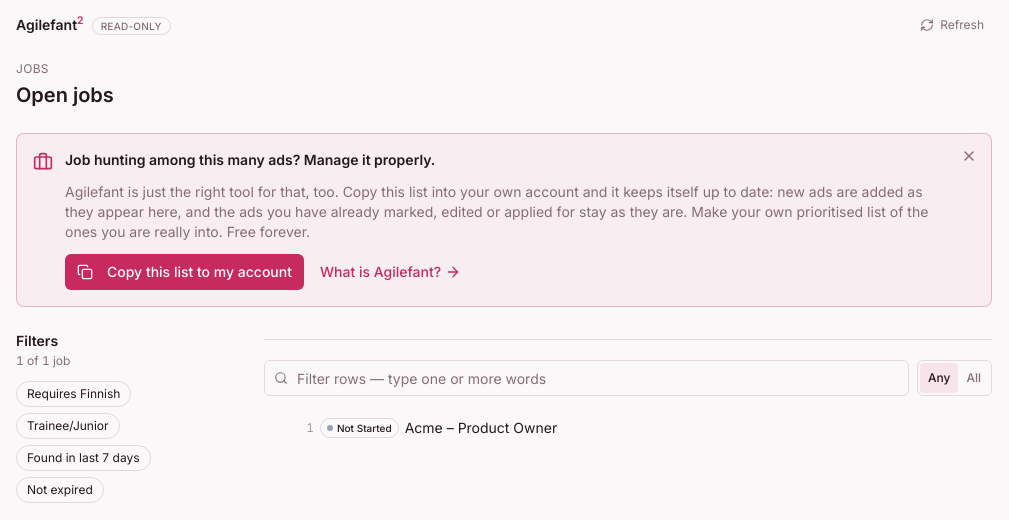
Test: the job-search call to action › stays closed in this browser once closed
Later steps or results of the test are not shown.
Expected: the heading "Open jobs" is shown, [16, 81, 114, 109]
Click the button named "Close". click: (969, 156)
box: [955, 142, 983, 170]
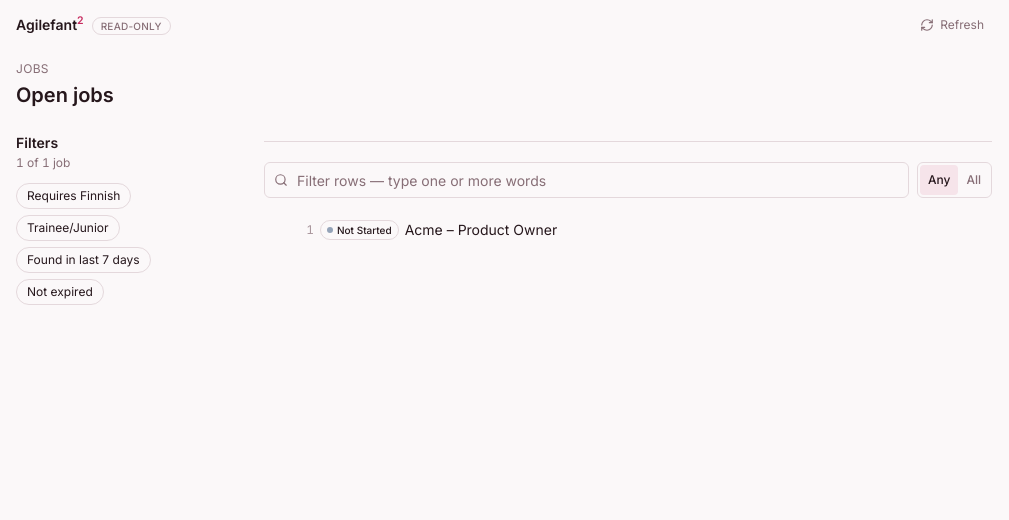
Now the heading "Job hunting among this many ads" is gone
